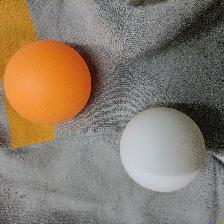WhiteBall: (119, 106, 205, 192)
YellowBall: (3, 39, 91, 125)
